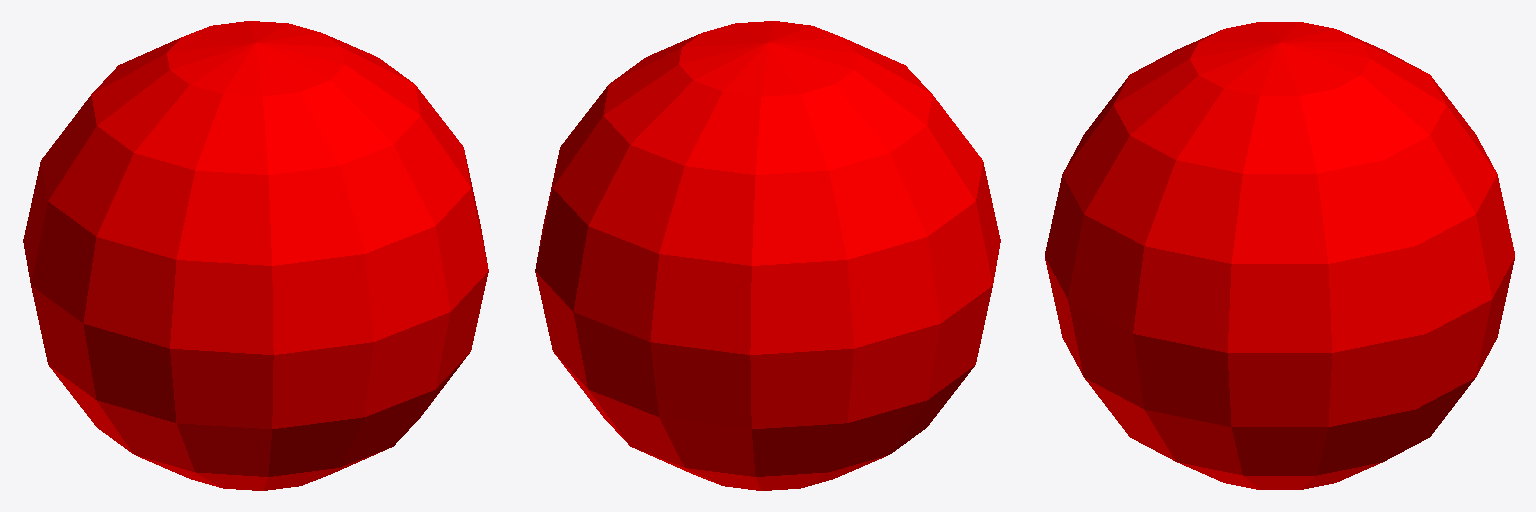
File: stone_red.obj
The picture shows the model from 3 angles: view 1: azimuth 30°, elevation 25°; view 2: azimuth 150°, elevation 25°; view 3: azimuth 270°, elevation 25°; orthographic projection.
Visible parts, largest first — view 1: Sphere; view 2: Sphere; view 3: Sphere.
Part boxes in pixels (bbox=[...]): Sphere: bbox=[23, 21, 488, 490]; Sphere: bbox=[535, 21, 1000, 490]; Sphere: bbox=[1045, 22, 1514, 489].
Size of the model in its own units: 1.95 by 2 by 2.